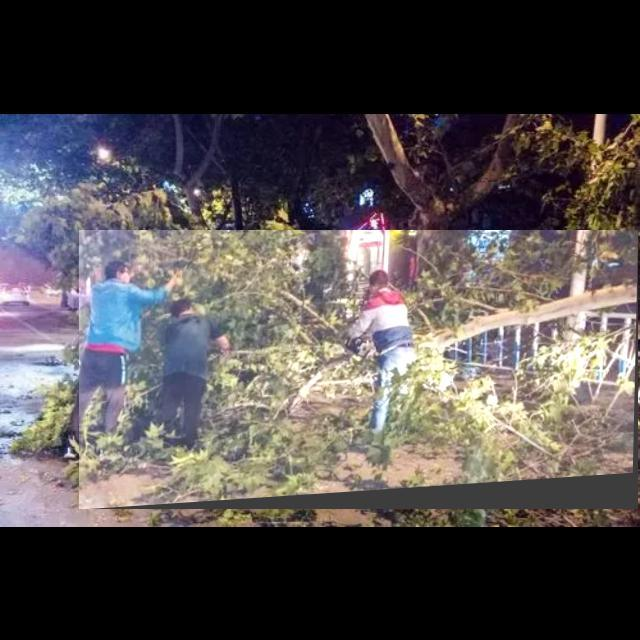fallen_tree: (79, 230, 639, 510)
